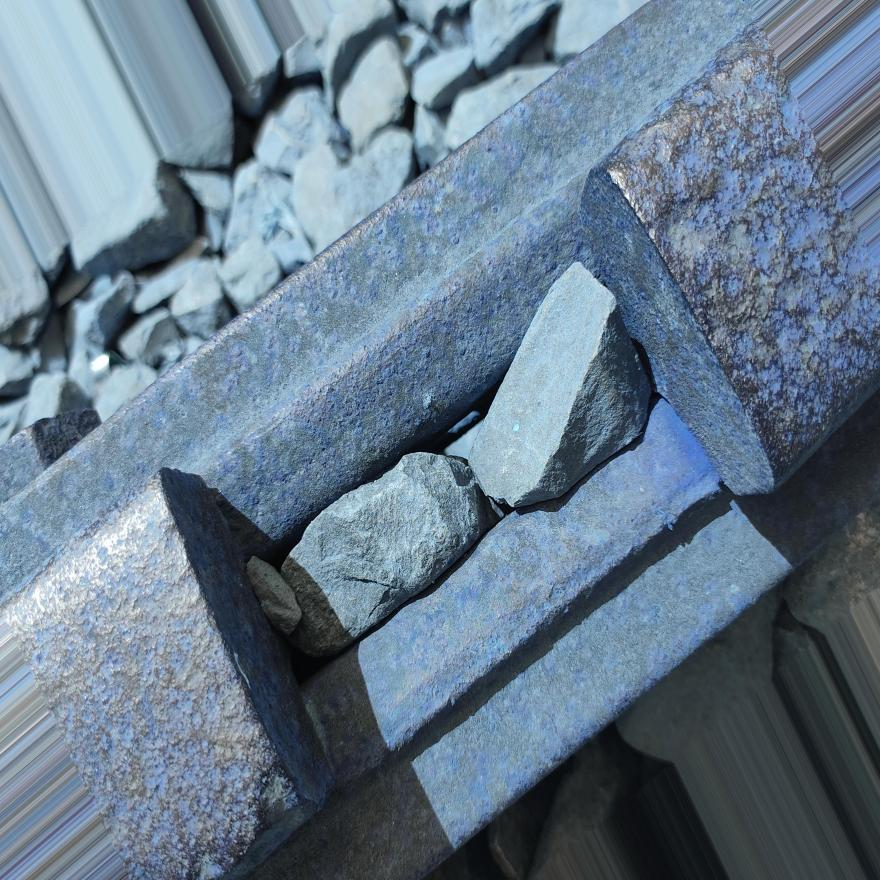railway-gap: (126, 173, 784, 823)
